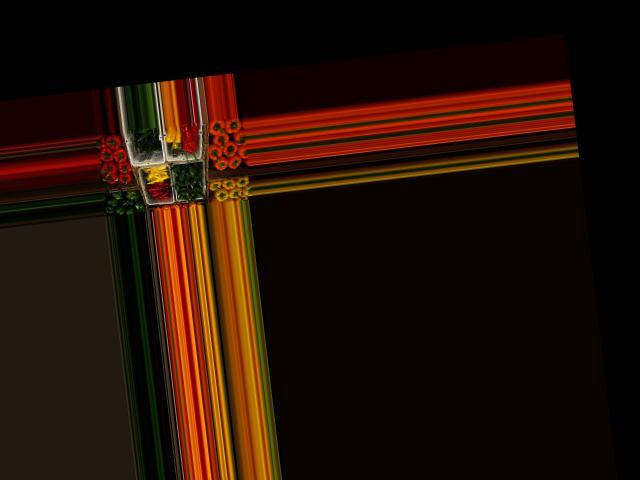bell_pepper: (110, 188, 126, 204)
